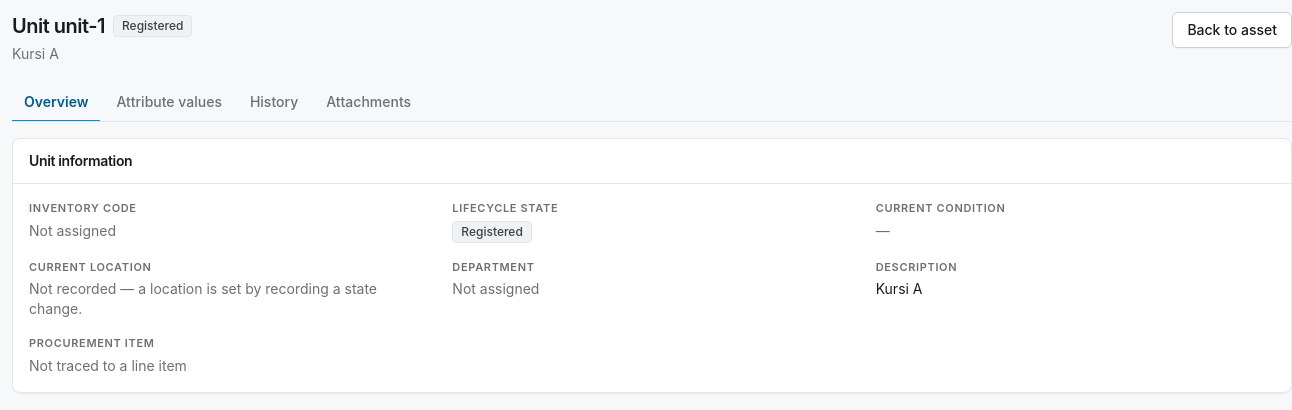
the unit detail page (D3) › shows the unit’s own files in an Attachments tab
The width and height of the screenshot is (1292, 410).
Click the tab "Attachments": coordinates (369, 103) [314,84,423,122]
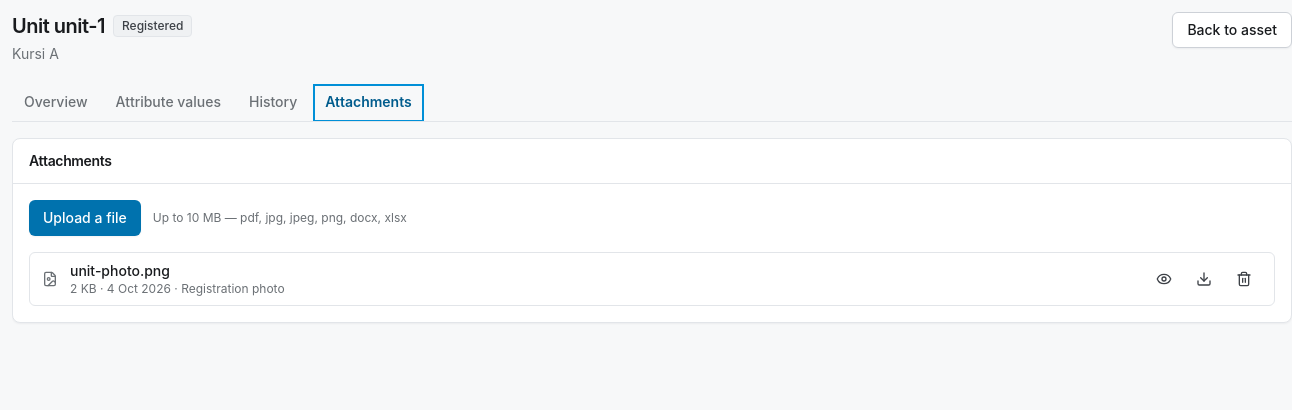
Result: the button "unit-photo.png" is shown at [70,261,170,281]
